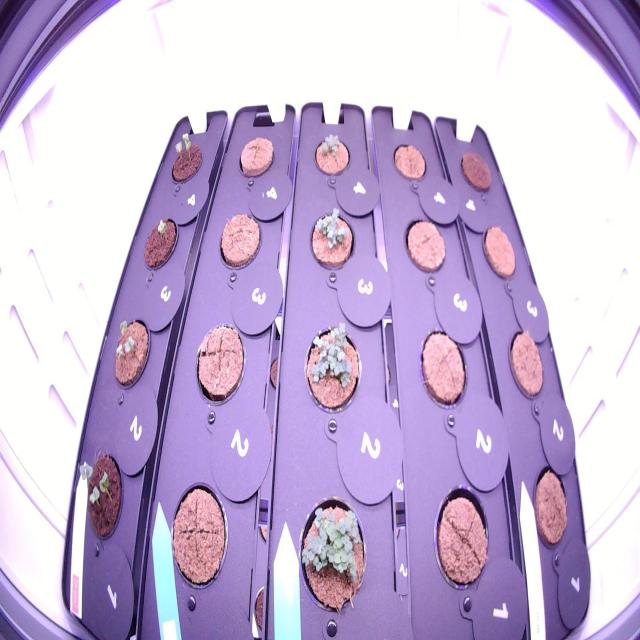germination: (292, 479, 378, 619), (296, 312, 369, 423), (74, 442, 128, 549), (304, 199, 361, 278), (110, 309, 154, 398), (139, 209, 182, 279), (162, 122, 206, 188), (310, 128, 354, 185)
pod: (165, 474, 233, 598), (429, 474, 493, 598), (416, 323, 474, 418), (192, 318, 250, 409), (524, 461, 574, 555), (503, 321, 549, 409), (212, 206, 265, 279), (399, 210, 448, 280), (478, 218, 520, 287), (232, 128, 280, 186), (454, 140, 499, 196), (386, 138, 432, 186)
